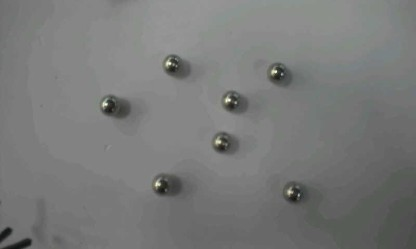ironball: (282, 180, 303, 202), (98, 94, 120, 115), (151, 173, 172, 195), (266, 61, 286, 81), (221, 89, 240, 110), (162, 53, 181, 73), (211, 131, 230, 151)
